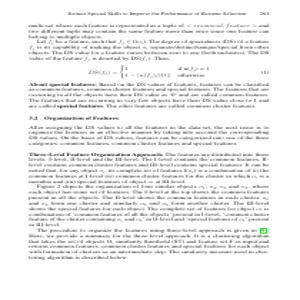text: (25, 9, 271, 263)
